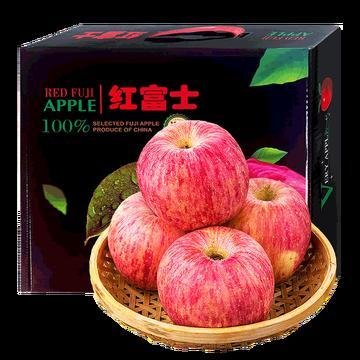apple: (129, 122, 245, 227), (157, 227, 273, 329), (228, 176, 310, 283), (109, 191, 184, 290)
